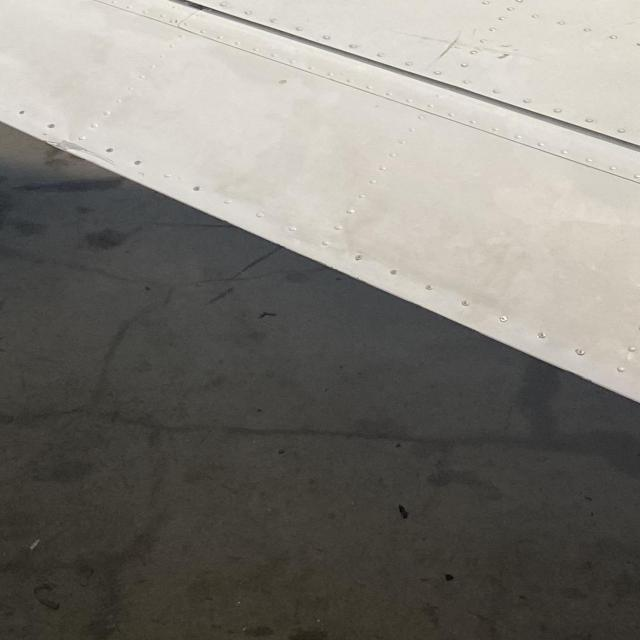Paint-off: (54, 137, 88, 153)
Scratch: (425, 32, 463, 67), (82, 146, 121, 168)
